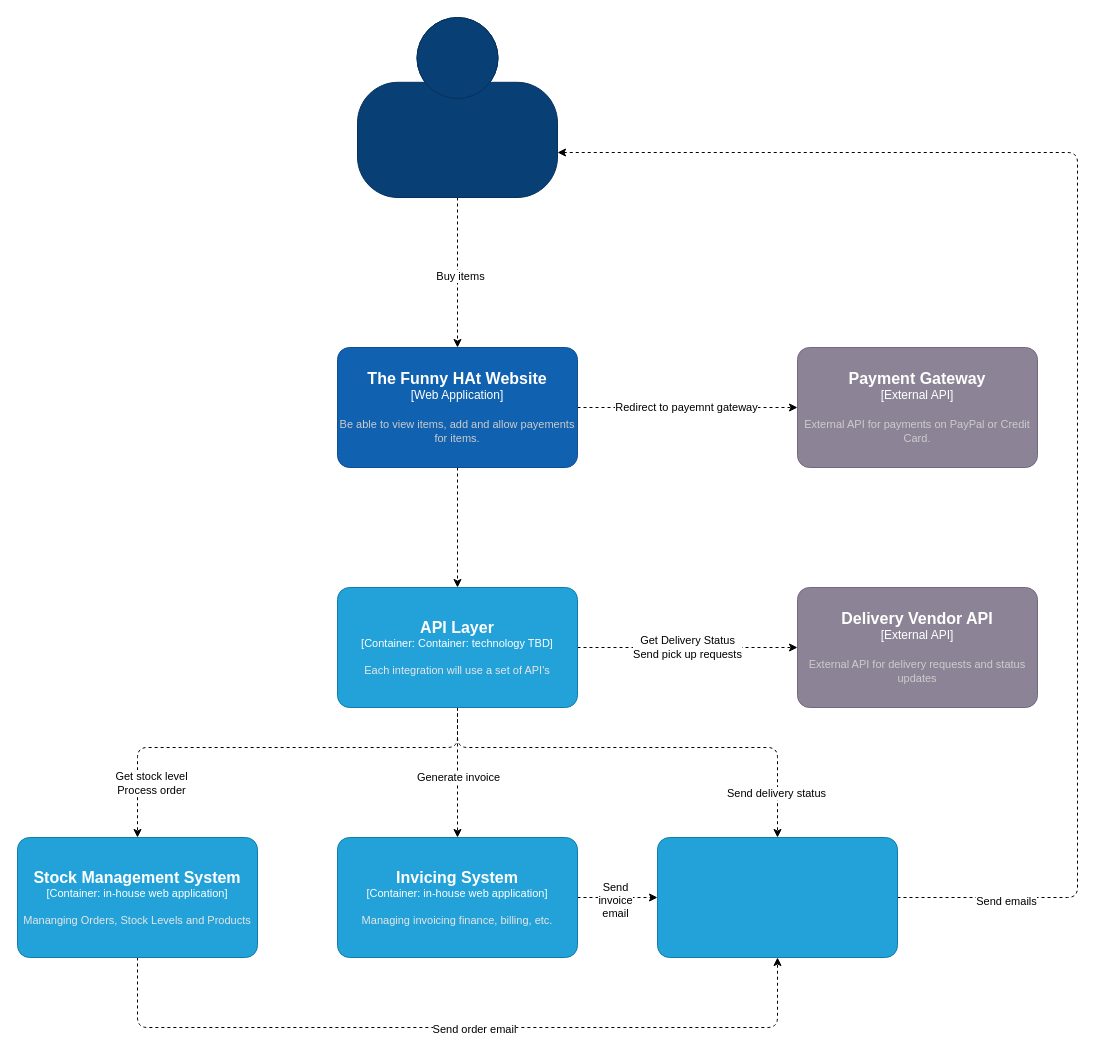
Some shapes in this 1103 by 1053 pixel diagram are drawn without their labels. The shapes that lost their labels are listed below. From the top down, each one's box as (x1, y1, x2, y2) in pixels, then its label:
(356, 16, 558, 198): Customer [Person] A customer of The Funny Hat Shop
(656, 836, 898, 958): Email Service [Container: external service] New service needed to send eamils
